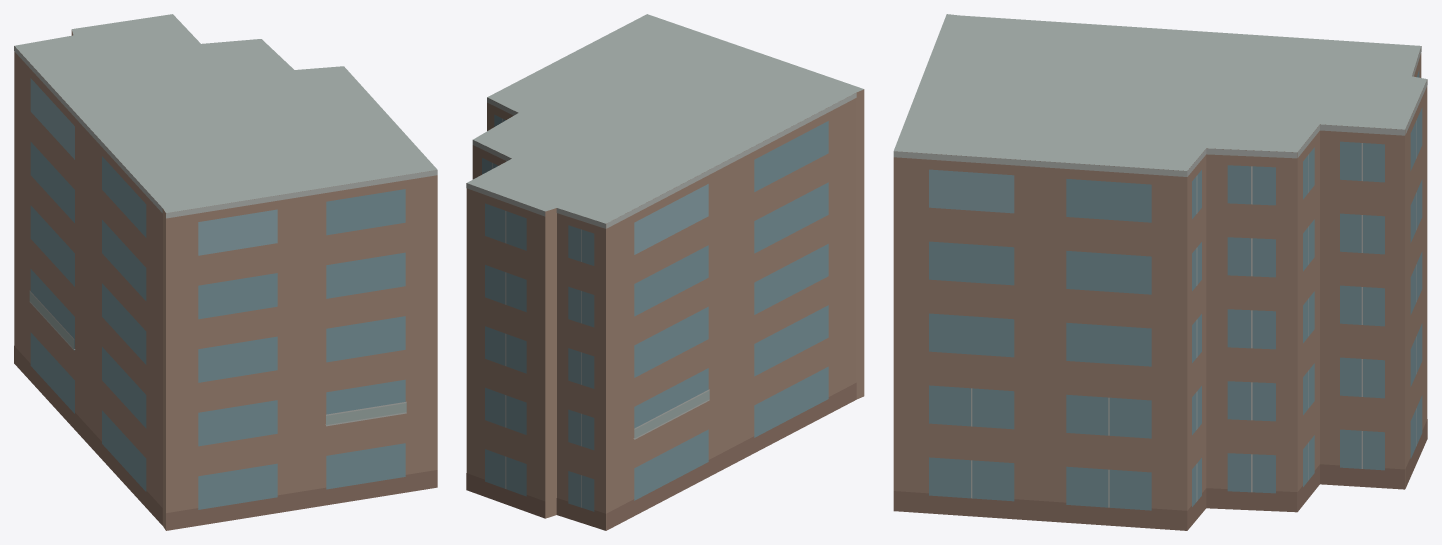
File: survey-upis-32679840.glb
3 renders of one model, left to right at view 1: azimuth 30°, elevation 25°; view 2: azimuth 150°, elevation 25°; view 3: azimuth 270°, elevation 25°, orthographic. The views are drawn at different scales.
Visible parts, largest first — view 1: survey-upis-32679840.tmp; view 2: survey-upis-32679840.tmp; view 3: survey-upis-32679840.tmp.
Part boxes in pixels (left/top/right/bottom): survey-upis-32679840.tmp: left=14, top=14, right=437, bottom=530; survey-upis-32679840.tmp: left=466, top=14, right=864, bottom=530; survey-upis-32679840.tmp: left=893, top=14, right=1427, bottom=530.
Size of the model in its own units: 13.53 by 14.45 by 19.44.
